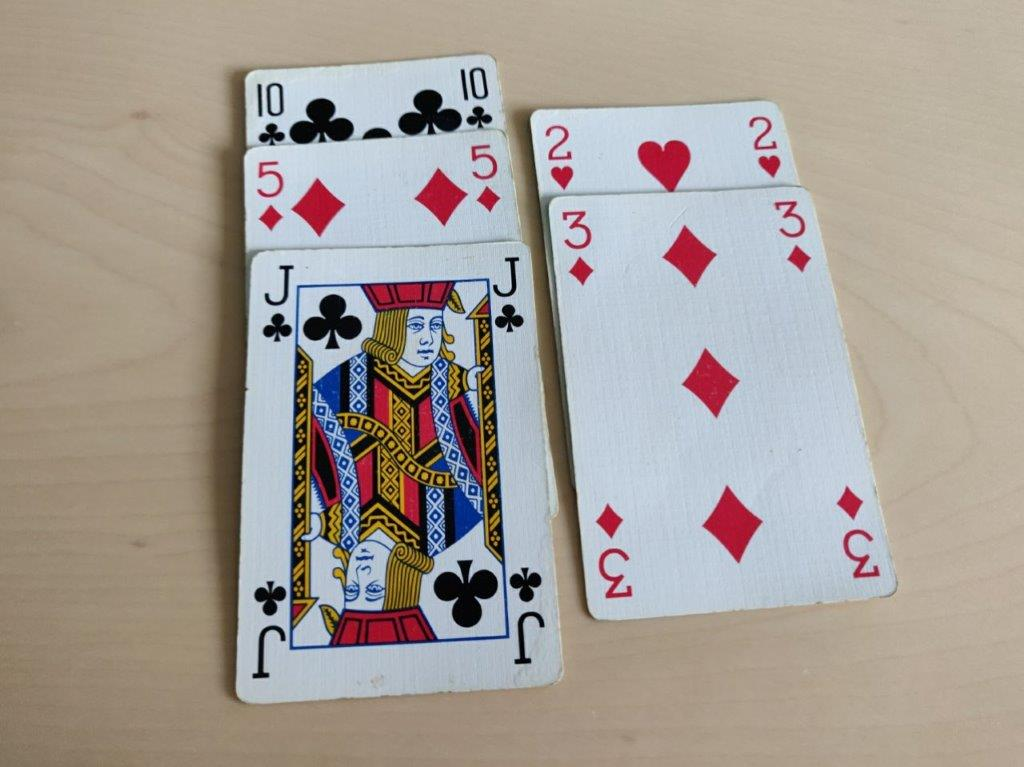10C: (250, 75, 287, 144), (458, 62, 495, 131)
2H: (538, 117, 588, 192), (740, 108, 790, 183)
3D: (554, 204, 600, 291), (770, 194, 816, 281)
5D: (247, 152, 292, 240), (466, 139, 511, 227)
JC: (256, 259, 301, 350), (485, 250, 530, 341)
